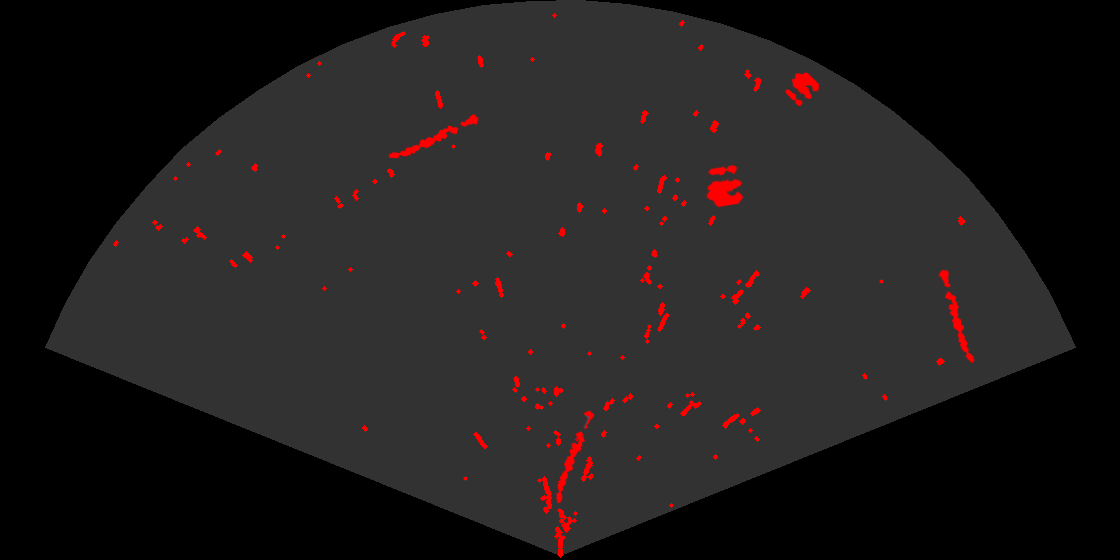ball: (705, 163, 745, 209), (784, 71, 821, 108)
chain: (387, 113, 480, 160), (555, 409, 596, 505), (937, 268, 976, 365)
